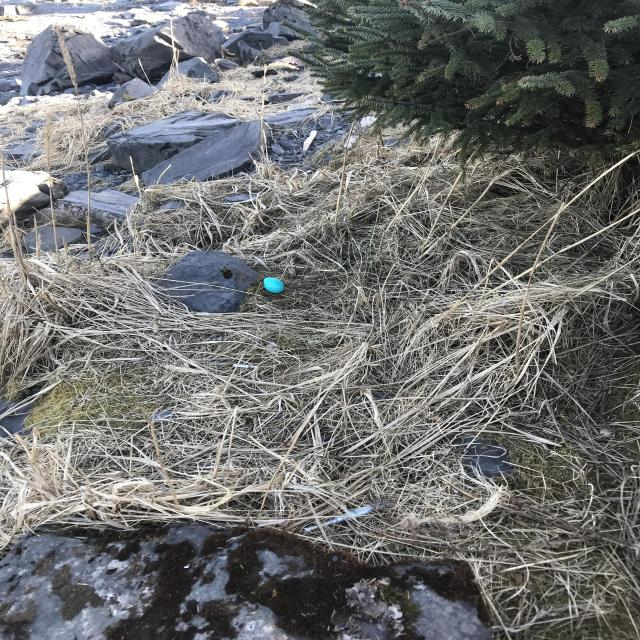litter: (370, 267, 391, 283)
